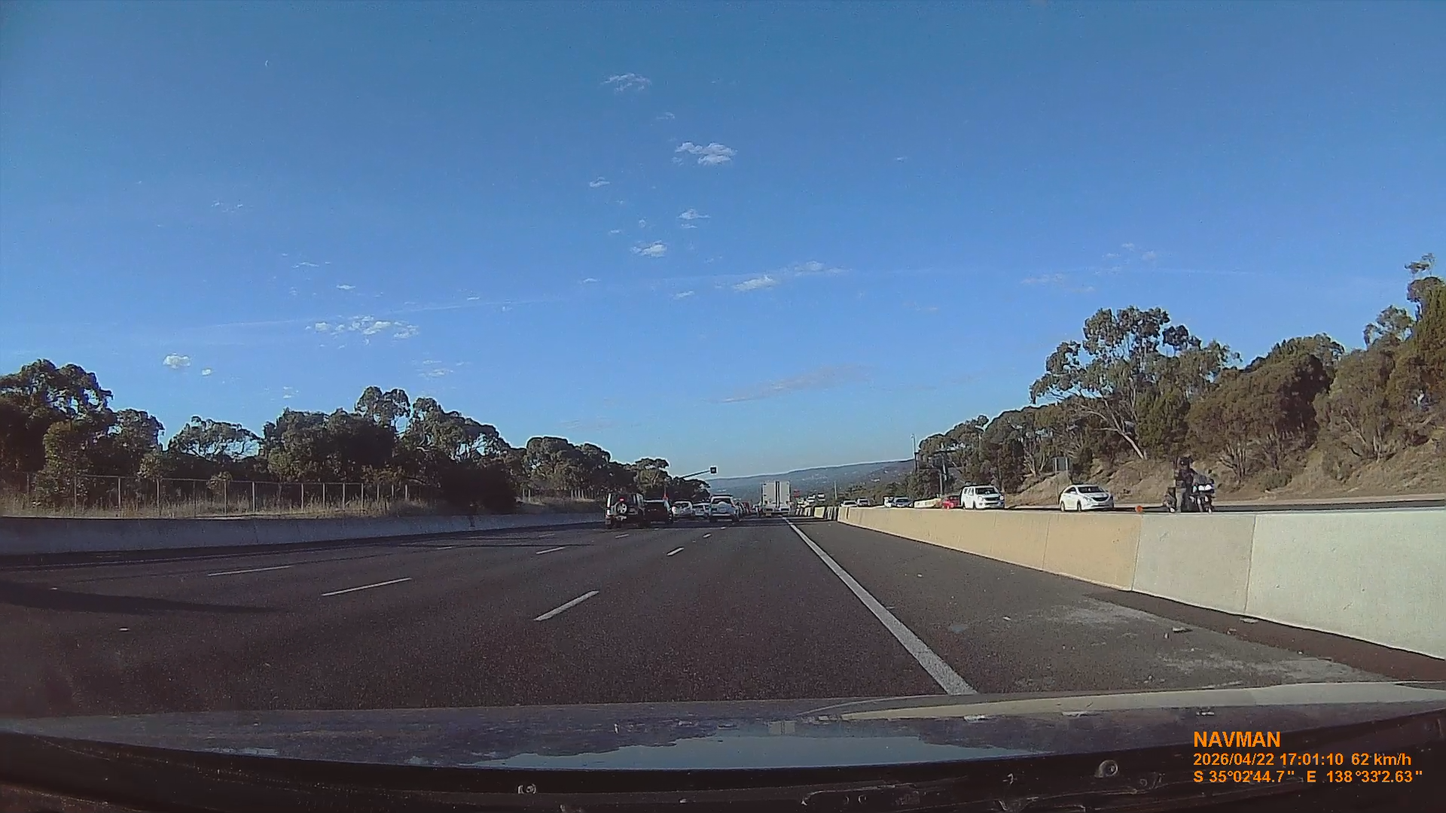fences: (0, 473, 440, 516)
road barriers: (838, 508, 1445, 659), (0, 512, 598, 557)
